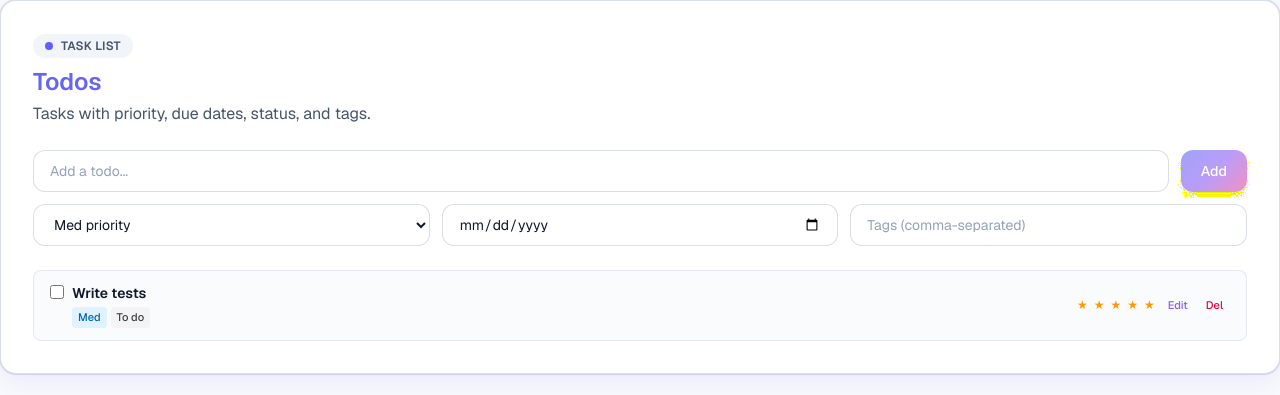
Test: TodosSection › rates a todo when rating is enabled
The image size is (1280, 395).
Click the button named "Rate Write tests 4 stars": [1133, 305] box x1=1125 y1=297 x2=1140 y2=313
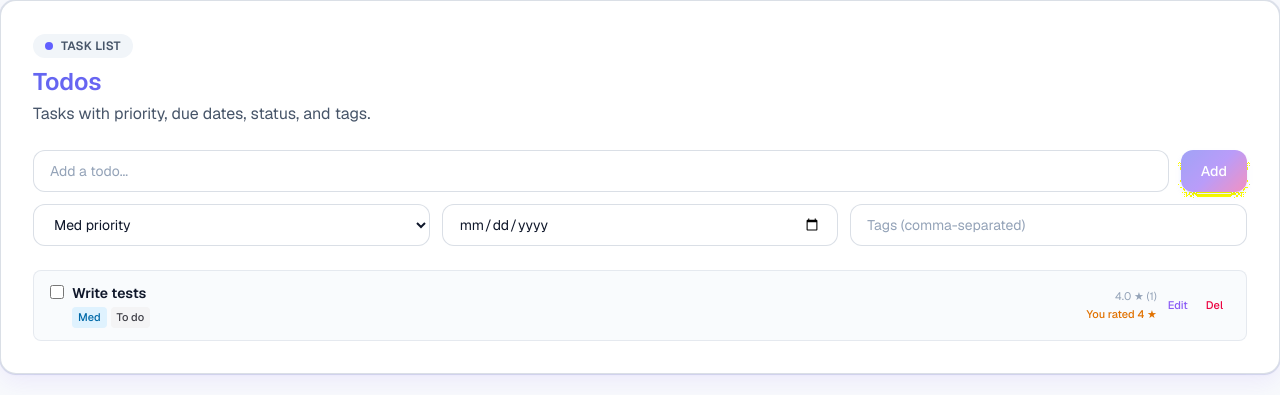
Now the text "You rated 4 ★" is shown, box x1=1087 y1=306 x2=1157 y2=323
